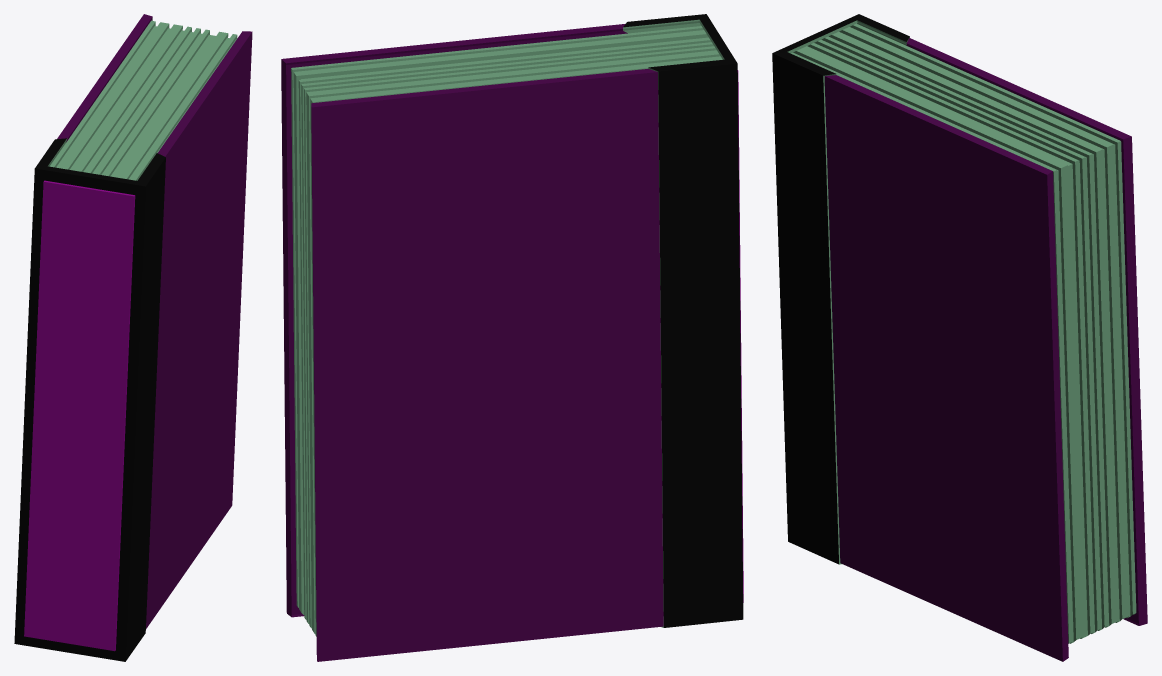
File: TopShelfBook4.fbx
3 views of the same model, side by side, from view 1: azimuth 30°, elevation 25°; view 2: azimuth 150°, elevation 25°; view 3: azimuth 270°, elevation 25° (orthographic). The views are drawn at different scales.
Parts seen in each view (by area): view 1: Book.020; view 2: Book.020; view 3: Book.020.
Part boxes in pixels (<box>): Book.020: <box>14,14,252,661</box>; Book.020: <box>281,14,743,661</box>; Book.020: <box>772,14,1147,661</box>.
Size of the model in its own units: 123 by 176 by 120.
